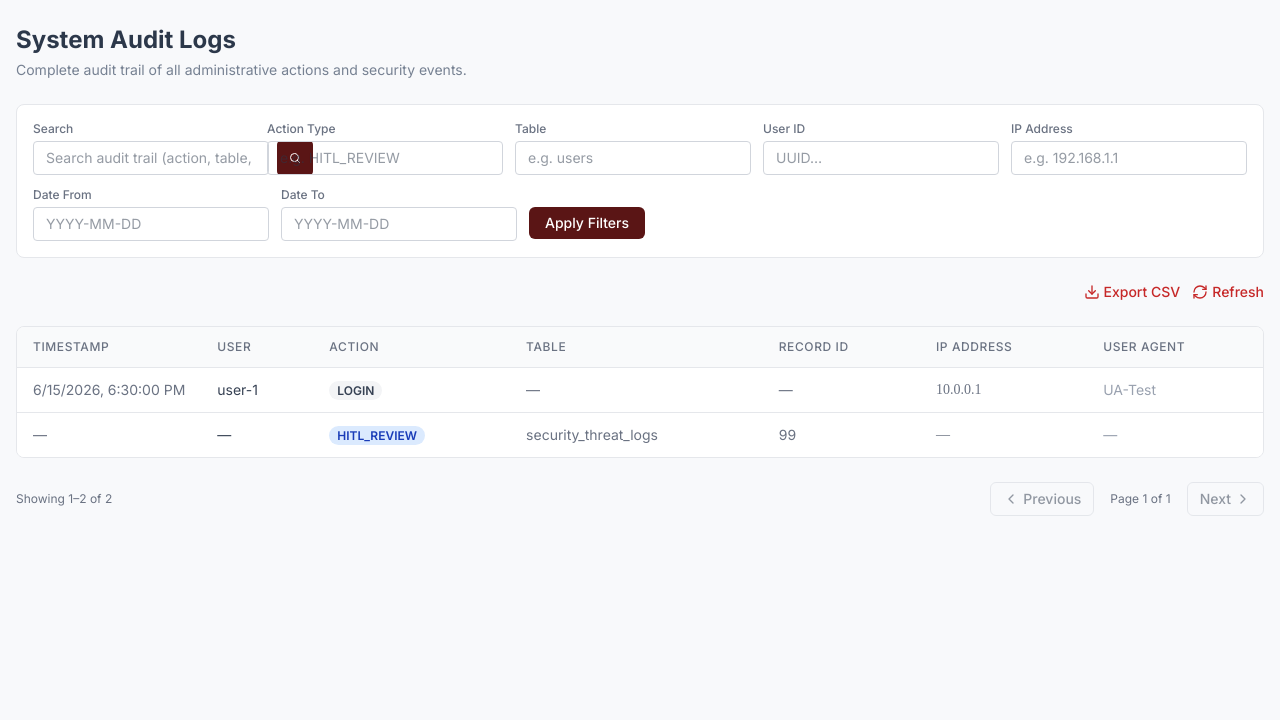
it: Admin Audit page › renders audit entries in the table
The image size is (1280, 720).
Expected: the text "LOGIN" is shown, [329, 381, 382, 400]
Expected: the text "HITL_REVIEW" is shown, [329, 426, 425, 445]
Click the text "HITL_REVIEW".
click(640, 435)  # box [17, 412, 1263, 457]
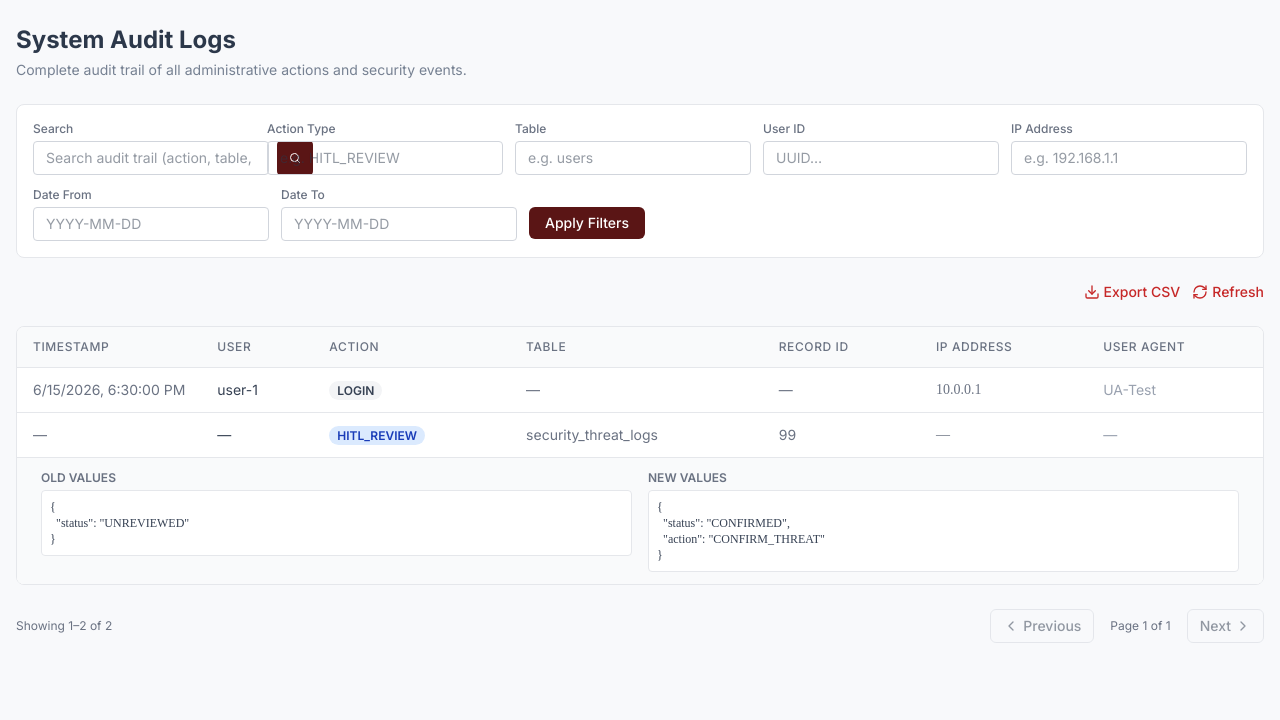
Expected: the heading "Old Values" is shown, [41, 470, 116, 485]
Expected: the heading "New Values" is shown, [648, 470, 727, 485]
Collapse on second click
Click the text "HITL_REVIEW".
click(640, 435)  # box [17, 412, 1263, 458]
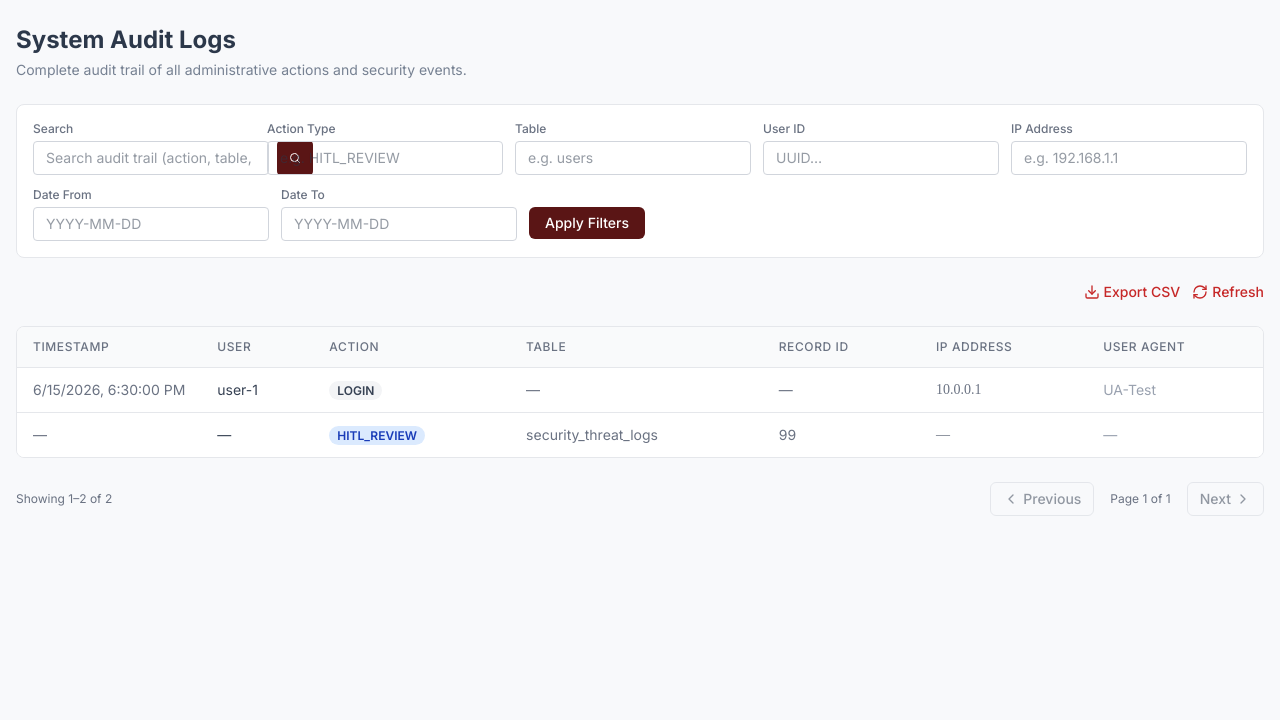
Expected: the heading "Old Values" is gone
